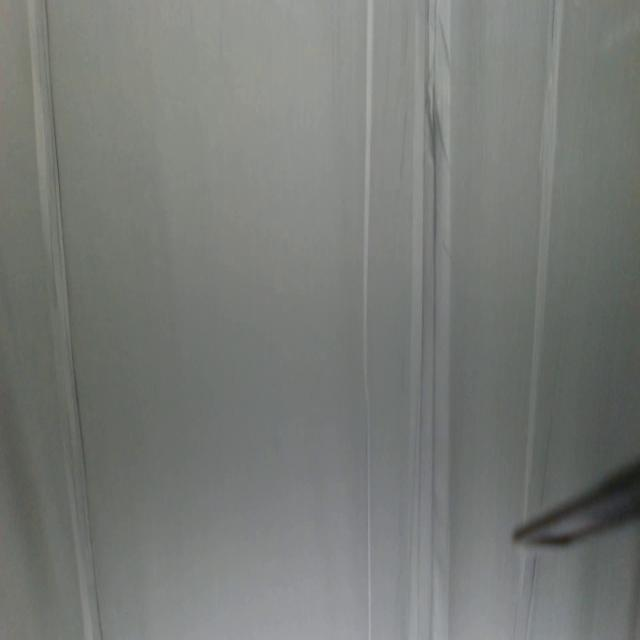crease: (28, 1, 108, 640), (413, 1, 450, 640), (524, 0, 563, 494), (360, 0, 376, 640), (512, 554, 540, 640)
